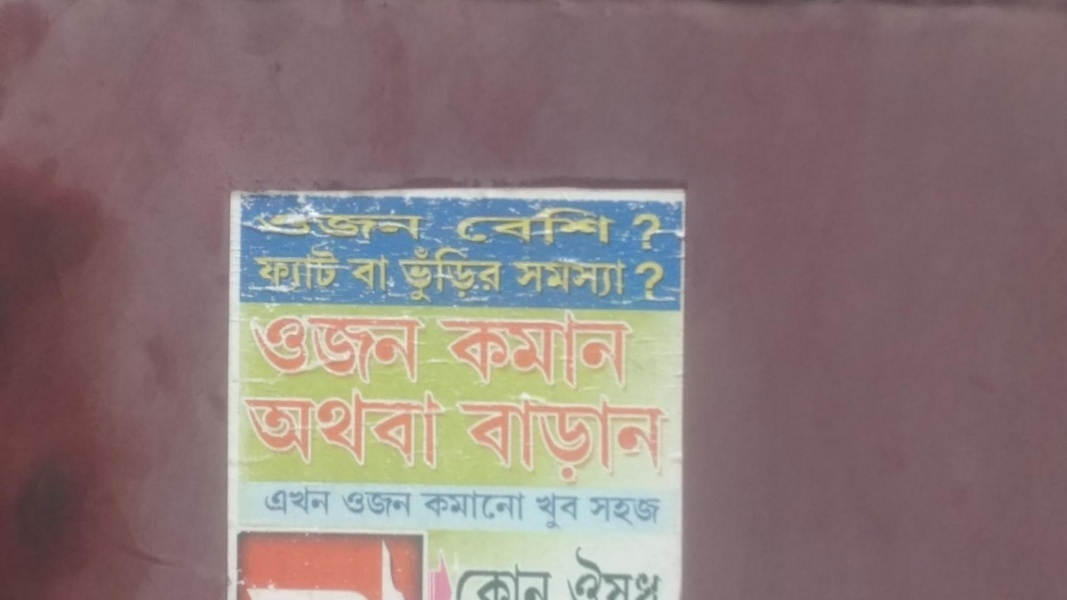text: (465, 393, 480, 483), (481, 393, 496, 483), (497, 393, 512, 483), (513, 393, 528, 483), (529, 393, 544, 483), (545, 393, 560, 483), (561, 393, 576, 483), (577, 393, 592, 483), (593, 393, 608, 483), (609, 393, 624, 483), (625, 393, 640, 483), (641, 393, 656, 483), (257, 384, 272, 472), (273, 384, 288, 472), (289, 384, 304, 472), (305, 384, 320, 472), (321, 384, 336, 472), (337, 384, 352, 472), (353, 384, 368, 472), (369, 384, 384, 472), (385, 384, 400, 472), (401, 384, 416, 472), (417, 384, 432, 472), (433, 306, 448, 389), (449, 306, 464, 389), (465, 306, 480, 389), (481, 306, 496, 389), (497, 306, 512, 389), (513, 306, 528, 389), (529, 306, 544, 389), (545, 306, 560, 389), (561, 306, 576, 389), (577, 306, 592, 389), (593, 306, 608, 389), (609, 306, 624, 389), (257, 307, 272, 388), (273, 307, 288, 388), (289, 307, 304, 388), (305, 307, 320, 388), (321, 307, 336, 388), (337, 307, 352, 388), (353, 307, 368, 388), (369, 307, 384, 388), (385, 307, 400, 388), (401, 307, 416, 388), (657, 393, 670, 483), (243, 384, 256, 472), (433, 384, 446, 472), (625, 306, 636, 389), (454, 393, 464, 483), (401, 248, 416, 305), (417, 248, 432, 305), (433, 248, 448, 305), (449, 248, 464, 305), (465, 248, 480, 305), (481, 248, 496, 305), (246, 307, 256, 388), (417, 307, 427, 388), (577, 547, 592, 597), (593, 547, 608, 597), (609, 547, 624, 597), (625, 547, 640, 597), (641, 547, 656, 597), (545, 490, 560, 539), (561, 490, 576, 539), (465, 203, 480, 251), (481, 203, 496, 251), (497, 203, 512, 251), (513, 203, 528, 251), (529, 203, 544, 251), (545, 203, 560, 251), (561, 203, 576, 251), (577, 203, 592, 251), (593, 203, 608, 251), (609, 203, 624, 251), (625, 203, 640, 251), (641, 203, 656, 251), (577, 490, 591, 539), (257, 247, 272, 290), (273, 247, 288, 290), (289, 247, 304, 290), (305, 247, 320, 290), (321, 247, 336, 290), (353, 254, 368, 293), (369, 254, 384, 293), (401, 487, 417, 522), (529, 262, 544, 298), (545, 262, 560, 298), (561, 262, 576, 298), (577, 262, 592, 298), (593, 262, 608, 298), (609, 262, 624, 298), (625, 262, 640, 298), (641, 262, 656, 298), (353, 487, 368, 522), (369, 487, 384, 522), (385, 487, 400, 522), (593, 494, 608, 529), (609, 494, 624, 529), (625, 494, 640, 529), (641, 494, 656, 529), (273, 485, 288, 519), (289, 485, 304, 519), (305, 485, 320, 519), (433, 490, 448, 522), (449, 490, 464, 522), (465, 490, 480, 522), (481, 490, 496, 522), (497, 490, 512, 522), (513, 490, 528, 522), (273, 210, 288, 241), (289, 210, 304, 241), (305, 210, 320, 241), (321, 210, 336, 241), (337, 210, 352, 241), (353, 210, 368, 241), (369, 210, 384, 241), (385, 210, 400, 241), (401, 210, 416, 241), (497, 248, 505, 305), (465, 567, 480, 597), (481, 567, 496, 597), (497, 567, 512, 597), (513, 567, 528, 597), (529, 567, 544, 597), (535, 490, 544, 539), (258, 210, 272, 241), (516, 262, 528, 298), (321, 485, 333, 519), (456, 203, 464, 251), (420, 490, 432, 522), (342, 487, 352, 522), (657, 494, 667, 529), (569, 547, 576, 597), (657, 547, 664, 597), (545, 567, 555, 597), (657, 262, 665, 298), (395, 248, 400, 305), (657, 203, 662, 251), (456, 567, 464, 597), (337, 247, 341, 290), (267, 485, 272, 519), (385, 254, 389, 293), (588, 494, 592, 529), (417, 210, 420, 241), (350, 254, 352, 293), (529, 490, 531, 522)
